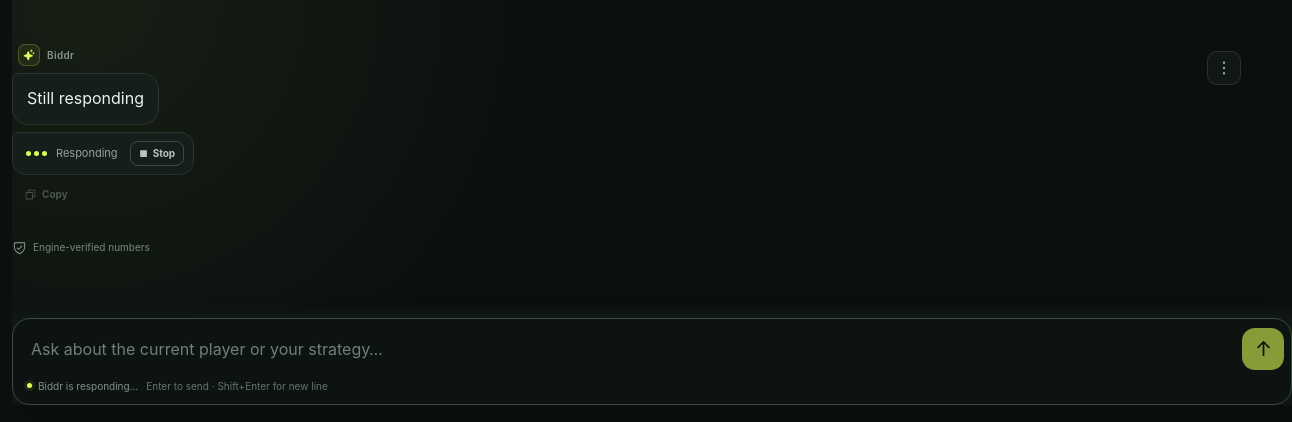
Test: Copilot chat › does not allow chat clearing during a stream
The width and height of the screenshot is (1292, 422).
Click the heading named "Chat options". click: [1224, 68]
box: [1207, 51, 1241, 85]
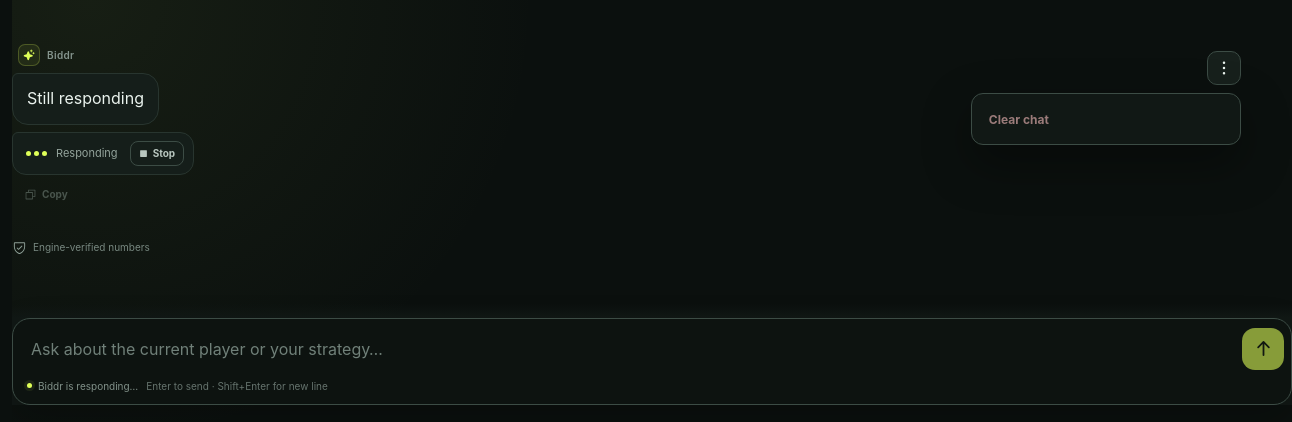
Check: the button "Clear chat" is disabled, box [979, 101, 1233, 137]
